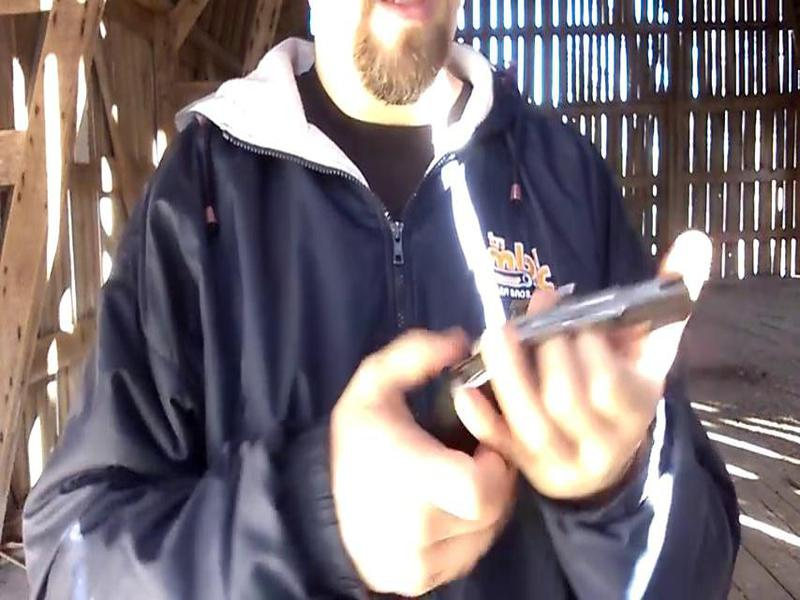Revolver: (417, 231, 740, 431)
